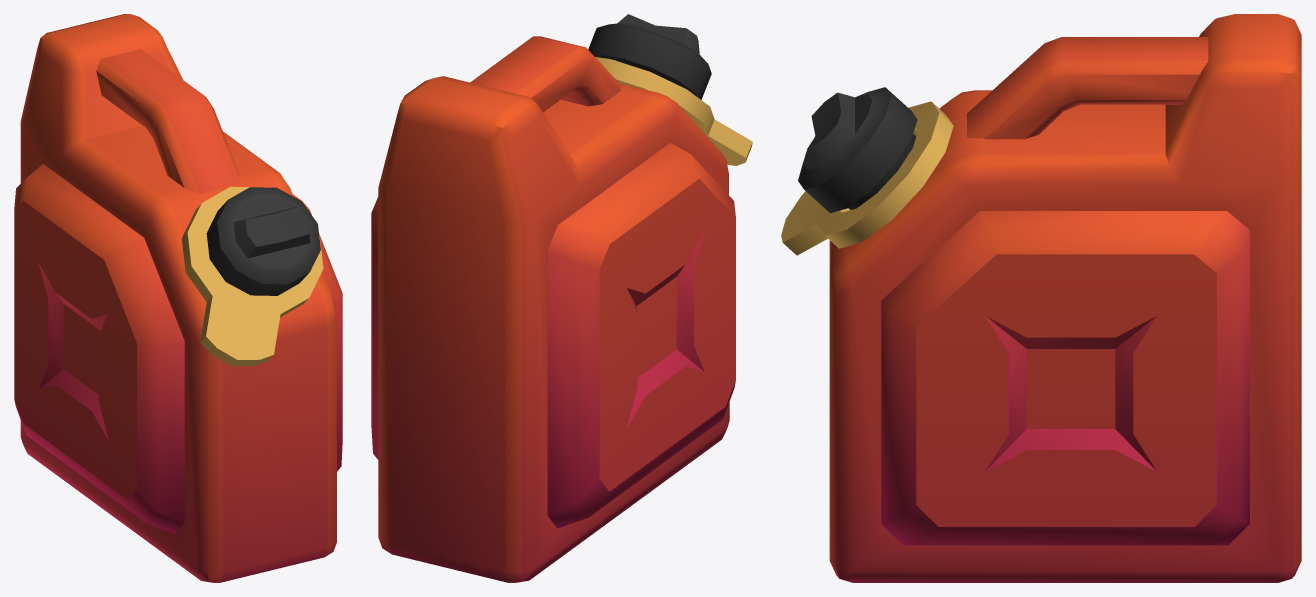
The model's file is Fuel_A_Jerrycan.glb.
3 renders of one model, left to right at view 1: azimuth 30°, elevation 25°; view 2: azimuth 150°, elevation 25°; view 3: azimuth 270°, elevation 25°, orthographic. The views are drawn at different scales.
Parts seen in each view (by area): view 1: Fuel_A_Jerrycan; view 2: Fuel_A_Jerrycan; view 3: Fuel_A_Jerrycan.
Boxes of the visible parts, x1,y1,x2,y2 form: Fuel_A_Jerrycan: (14, 14, 342, 582); Fuel_A_Jerrycan: (371, 14, 752, 582); Fuel_A_Jerrycan: (781, 14, 1301, 582).
Bounding box in the file's own units: 0.4 × 0.78 × 0.7165.
1 material, 1 textured.
